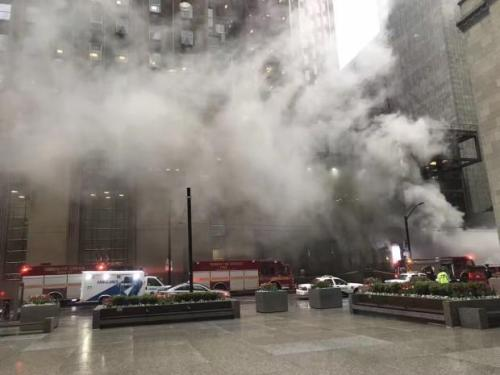smoke: (18, 59, 362, 226)
